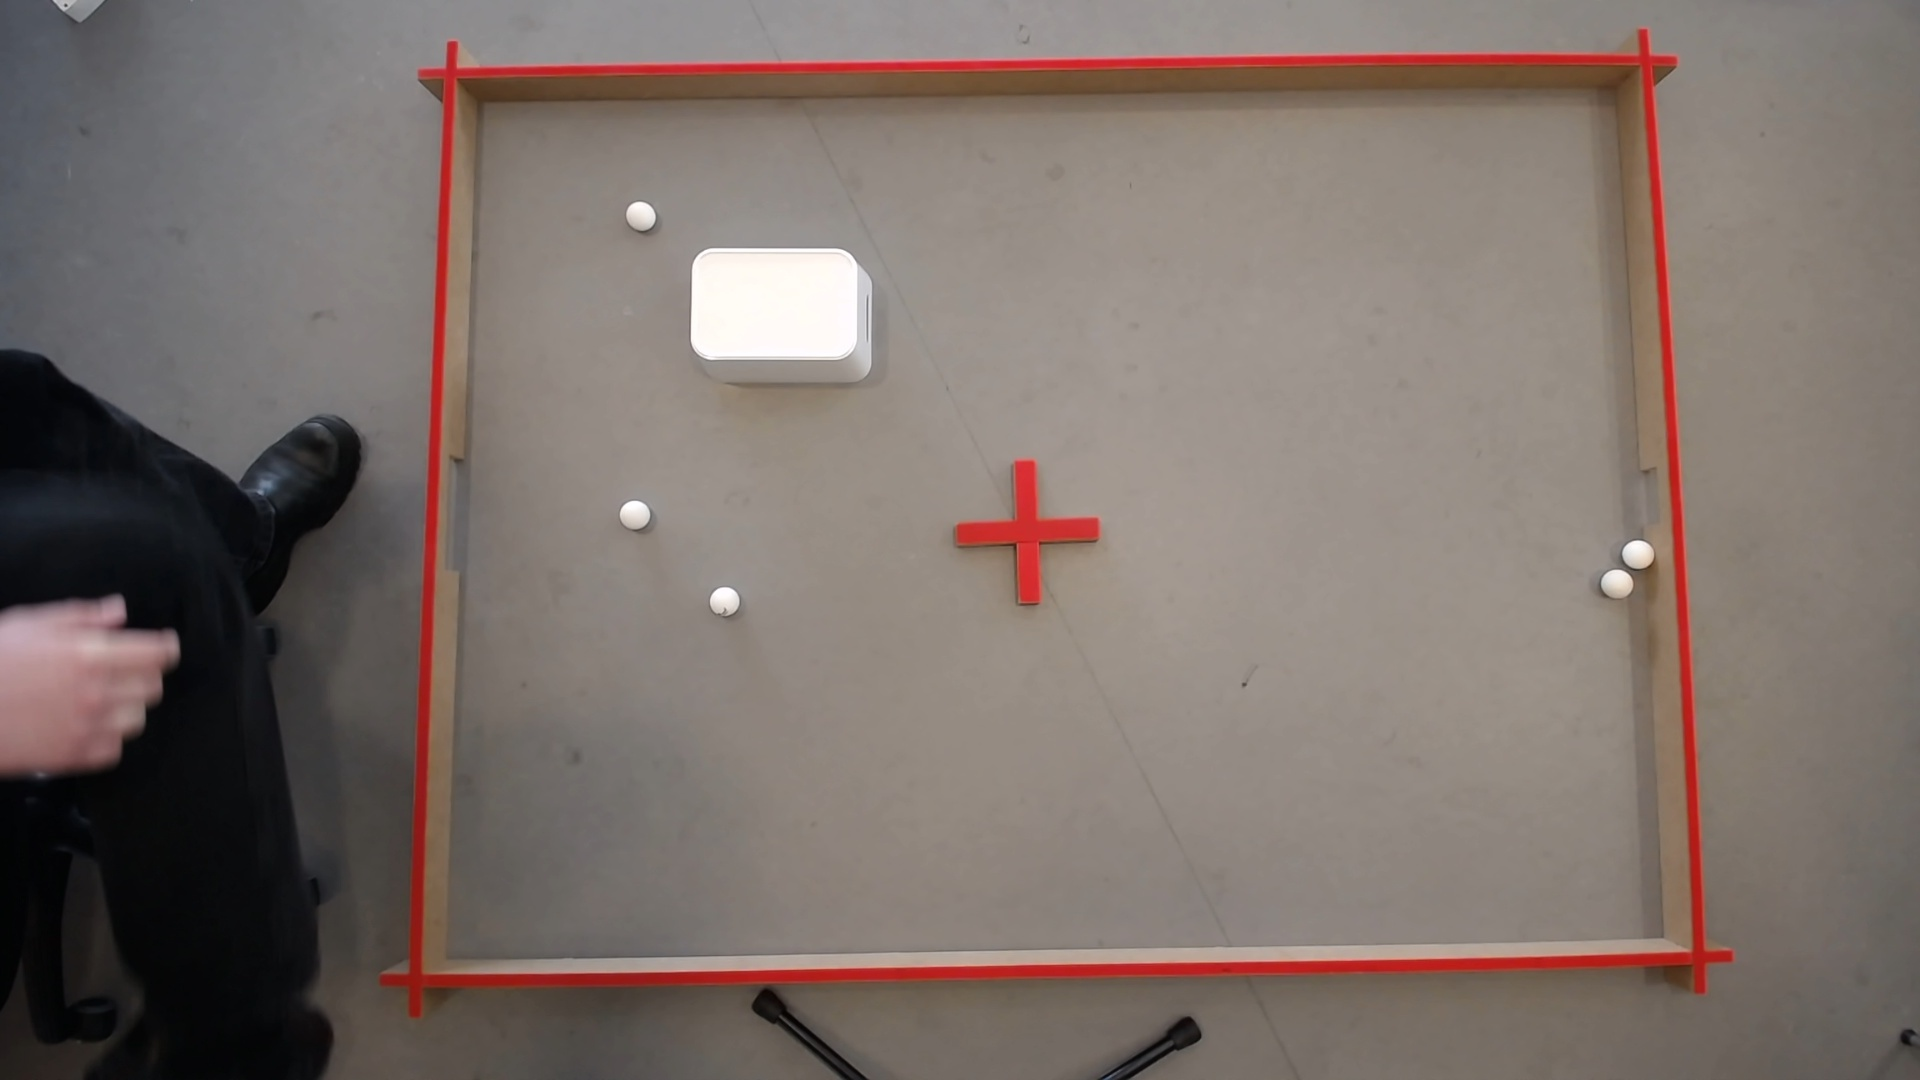balls: (690, 248, 857, 360), (624, 195, 659, 227), (617, 495, 651, 525), (707, 583, 740, 611), (1622, 539, 1651, 562)
car: (1600, 563, 1633, 592)
